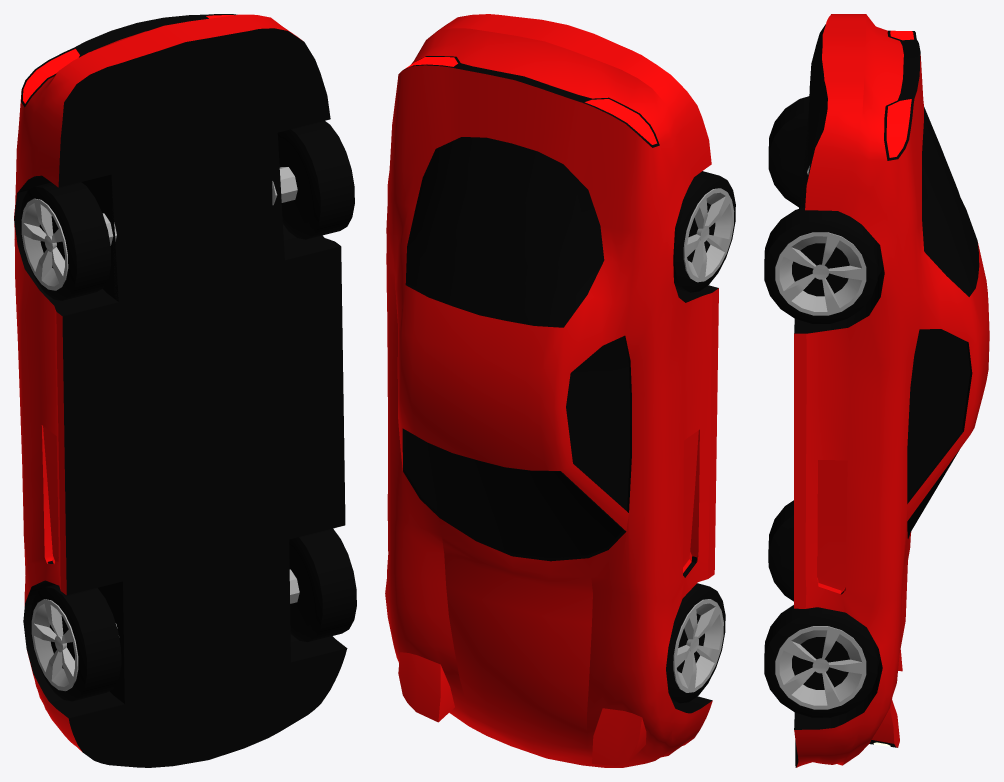
File: low_poly_mazda_rx-7-2.glb
3 views of the same model, side by side, from view 1: azimuth 30°, elevation 25°; view 2: azimuth 150°, elevation 25°; view 3: azimuth 270°, elevation 25° (orthographic). The views are drawn at different scales.
Visible parts, largest first — view 1: RX-7, BL_Wheel, FL_Wheel, BR_Wheel, FR_Wheel; view 2: RX-7, BL_Wheel, FL_Wheel; view 3: RX-7, BR_Wheel, FR_Wheel, BL_Wheel, FL_Wheel.
Part boxes in pixels (left/top/right/bottom): RX-7: left=14, top=14, right=347, bottom=767; BL_Wheel: left=20, top=182, right=110, bottom=300; FL_Wheel: left=30, top=584, right=121, bottom=701; BR_Wheel: left=277, top=121, right=354, bottom=239; FR_Wheel: left=289, top=528, right=356, bottom=641; RX-7: left=385, top=14, right=718, bottom=767; BL_Wheel: left=673, top=171, right=735, bottom=292; FL_Wheel: left=666, top=583, right=725, bottom=703; RX-7: left=794, top=14, right=989, bottom=767; BR_Wheel: left=764, top=207, right=878, bottom=323; FR_Wheel: left=764, top=605, right=878, bottom=717; BL_Wheel: left=768, top=96, right=809, bottom=207; FL_Wheel: left=768, top=500, right=793, bottom=601.
Size of the model in its own units: 1.84 by 4.33 by 1.28.
